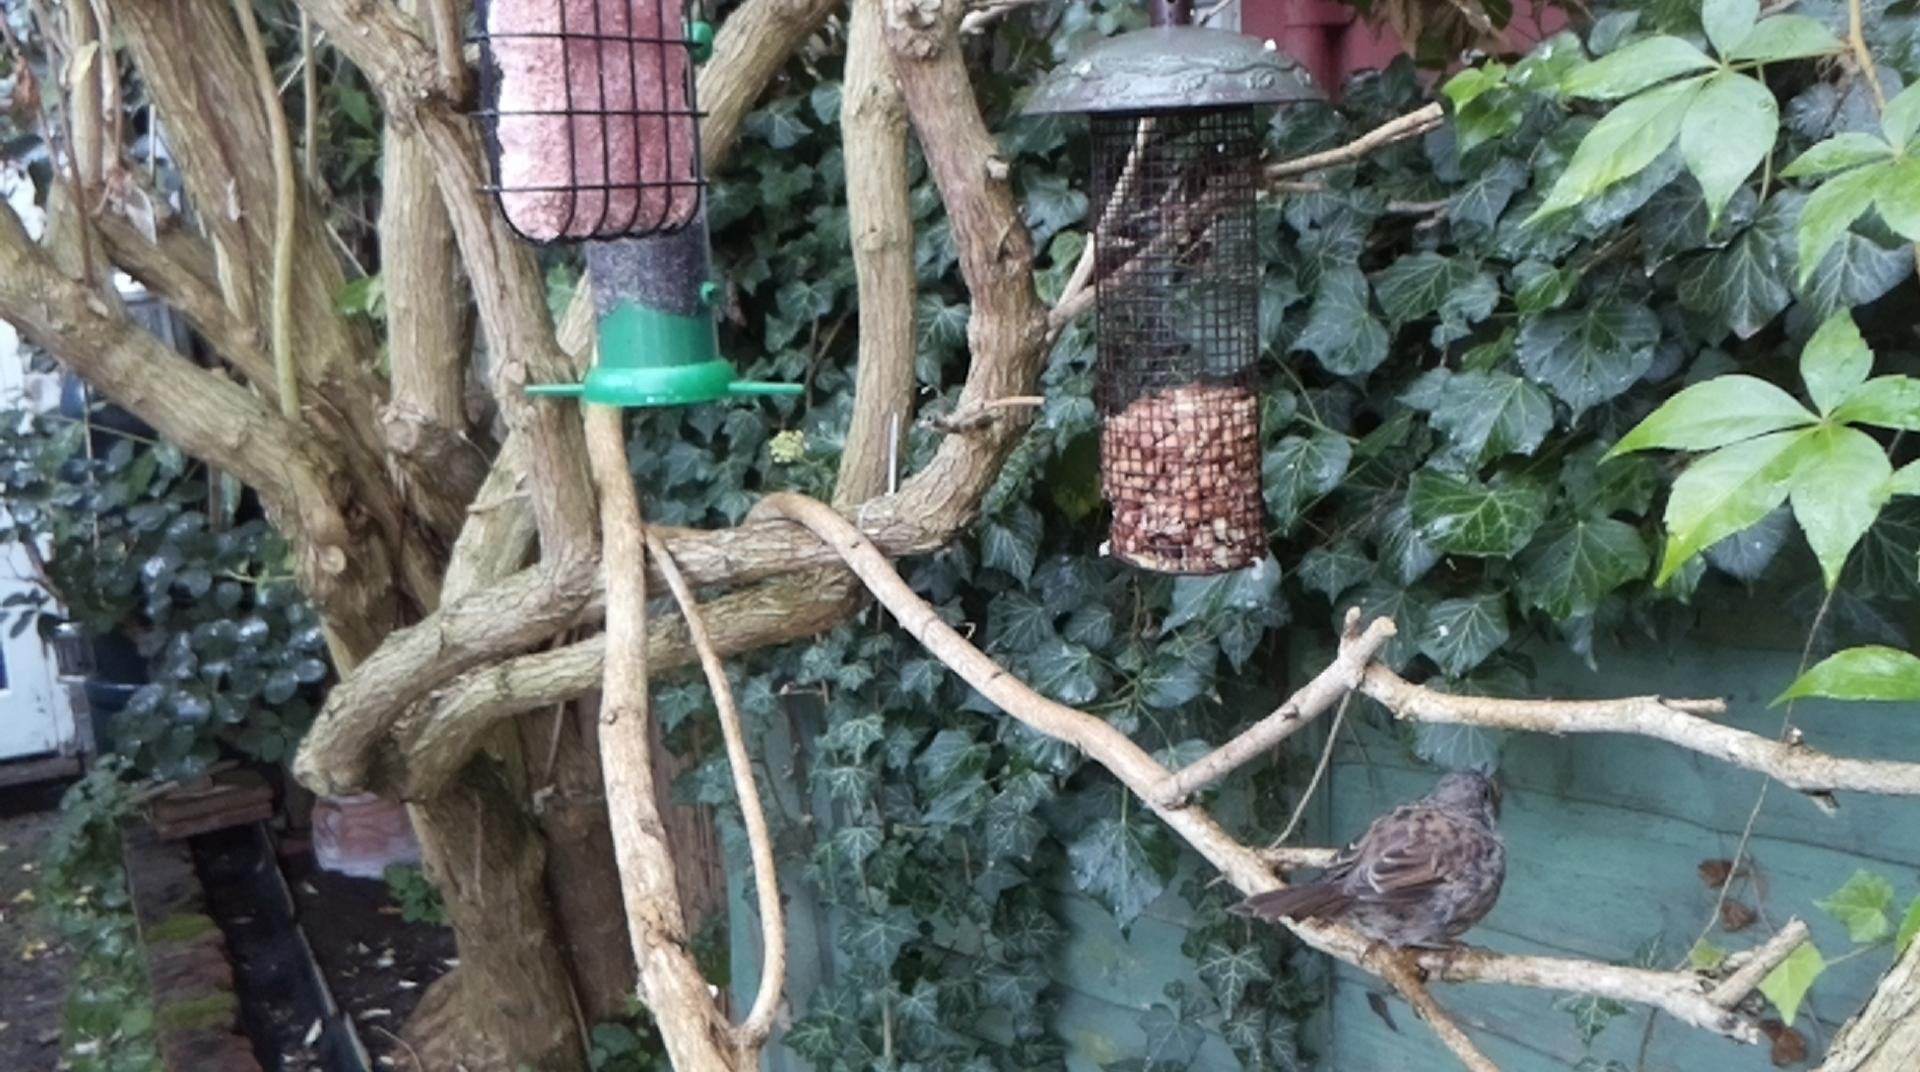dunnock: (1224, 759, 1507, 981)
